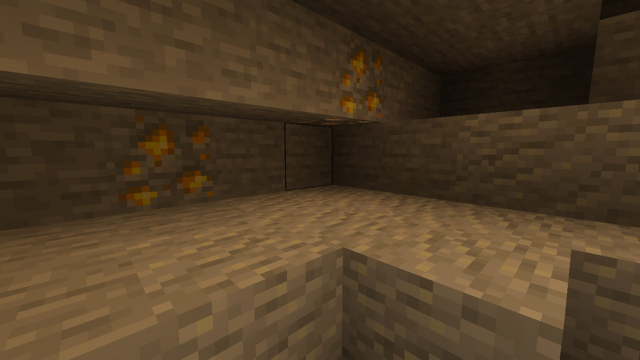gold: (111, 108, 219, 207), (333, 25, 385, 123)
